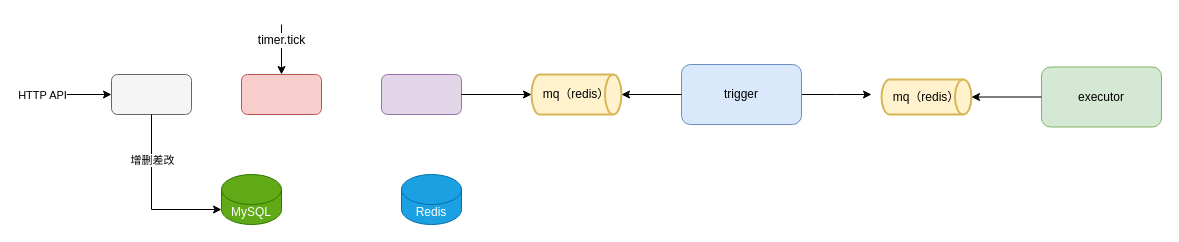
Image size: 1179x242. Some labels were removed from this diagram. The shapes that lost their labels are listed below. From the top down, each one's centre as x and y in pixels, then its label:
At (151,94): "webServer".
At (281,94): "migratorApp".
At (421,94): "schedulerApp".
